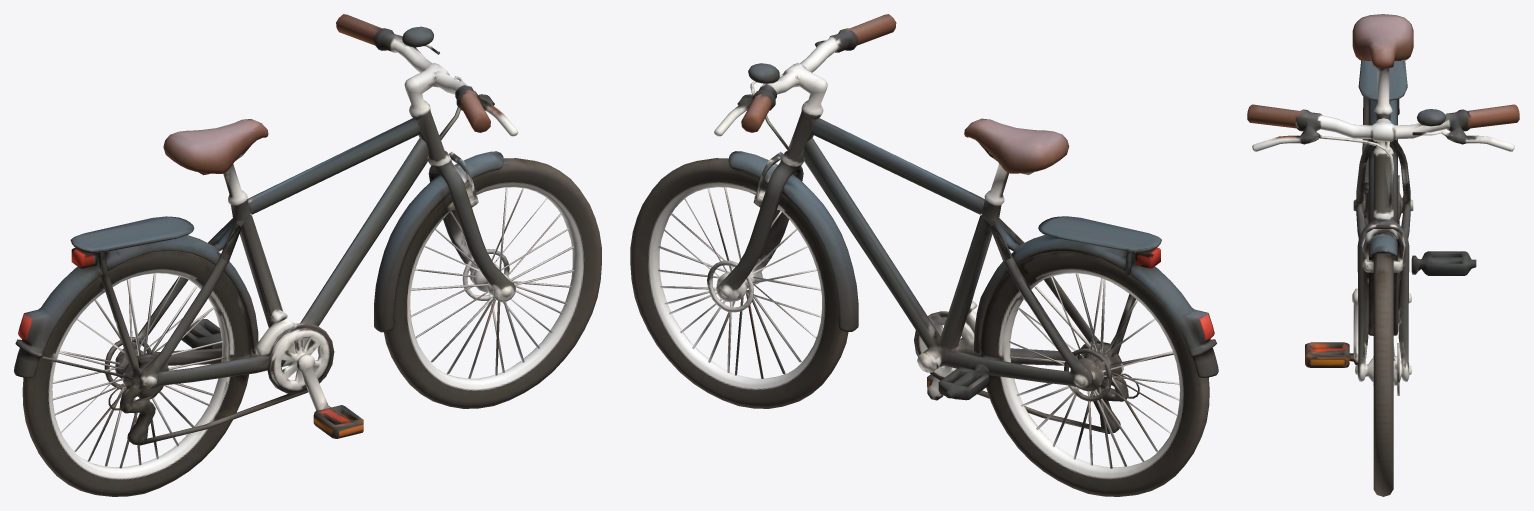
File: bycicle_everyday_realistic_style_a51f2edf_v3.glb
The picture shows the model from 3 angles, left to right: view 1: azimuth 30°, elevation 25°; view 2: azimuth 150°, elevation 25°; view 3: azimuth 270°, elevation 25°; orthographic projection. The views are drawn at different scales.
Visible parts, largest first — view 1: mesh_input; view 2: mesh_input; view 3: mesh_input.
Boxes of the visible parts, box(x1,y1,x2,y2) form: mesh_input: box(14, 14, 601, 496); mesh_input: box(630, 14, 1218, 496); mesh_input: box(1247, 14, 1519, 496).
Size of the model in its own units: 1.9 by 1.15 by 0.8008.
1 material, 1 textured.
